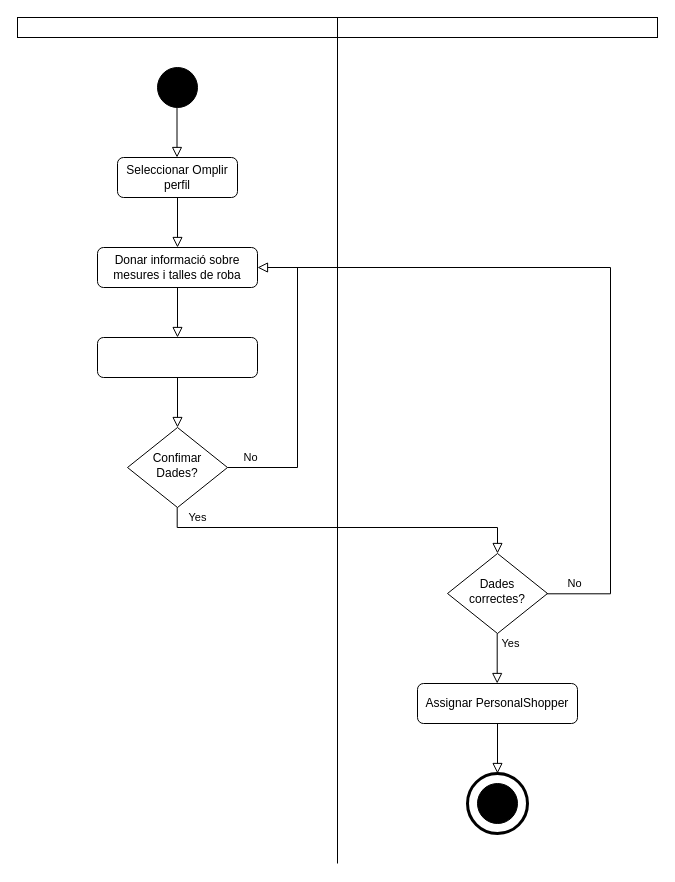
Some shapes in this 675 by 882 pixel diagram are drawn without their labels. The centre of each missing label's shape, as x and y in pixels:
"Client" belongs at point (177, 27).
"Donar informació sobre gustos i referencies" belongs at point (177, 357).
"Sistema" belongs at point (497, 27).
